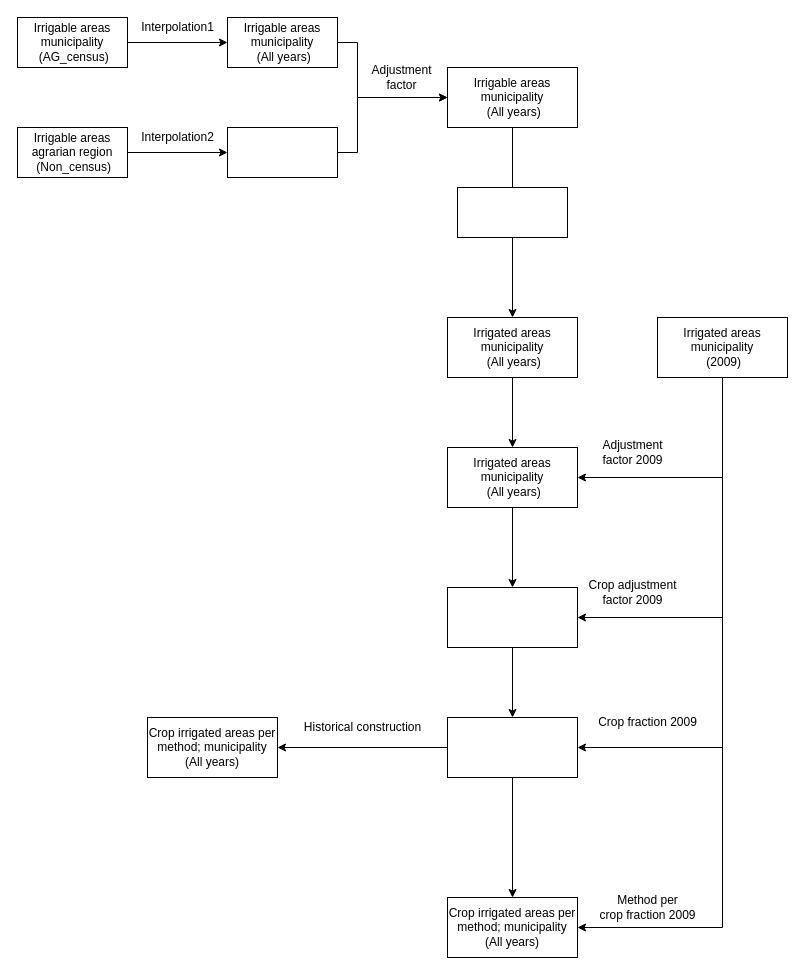
This 805x975 diagram has some shape labels left out. Each missing label, with the centre of its shape:
"Crop adjustment for 2009 (Irrigated maize and potato)" goes at point 512,617.
"Crop irrigated areas municipality (All years)" goes at point 512,747.
"Irrigable areas agrarian region (All years)" goes at point 282,152.
"Irrigated:irrigable mainland ratio (All years)" goes at point 512,212.
